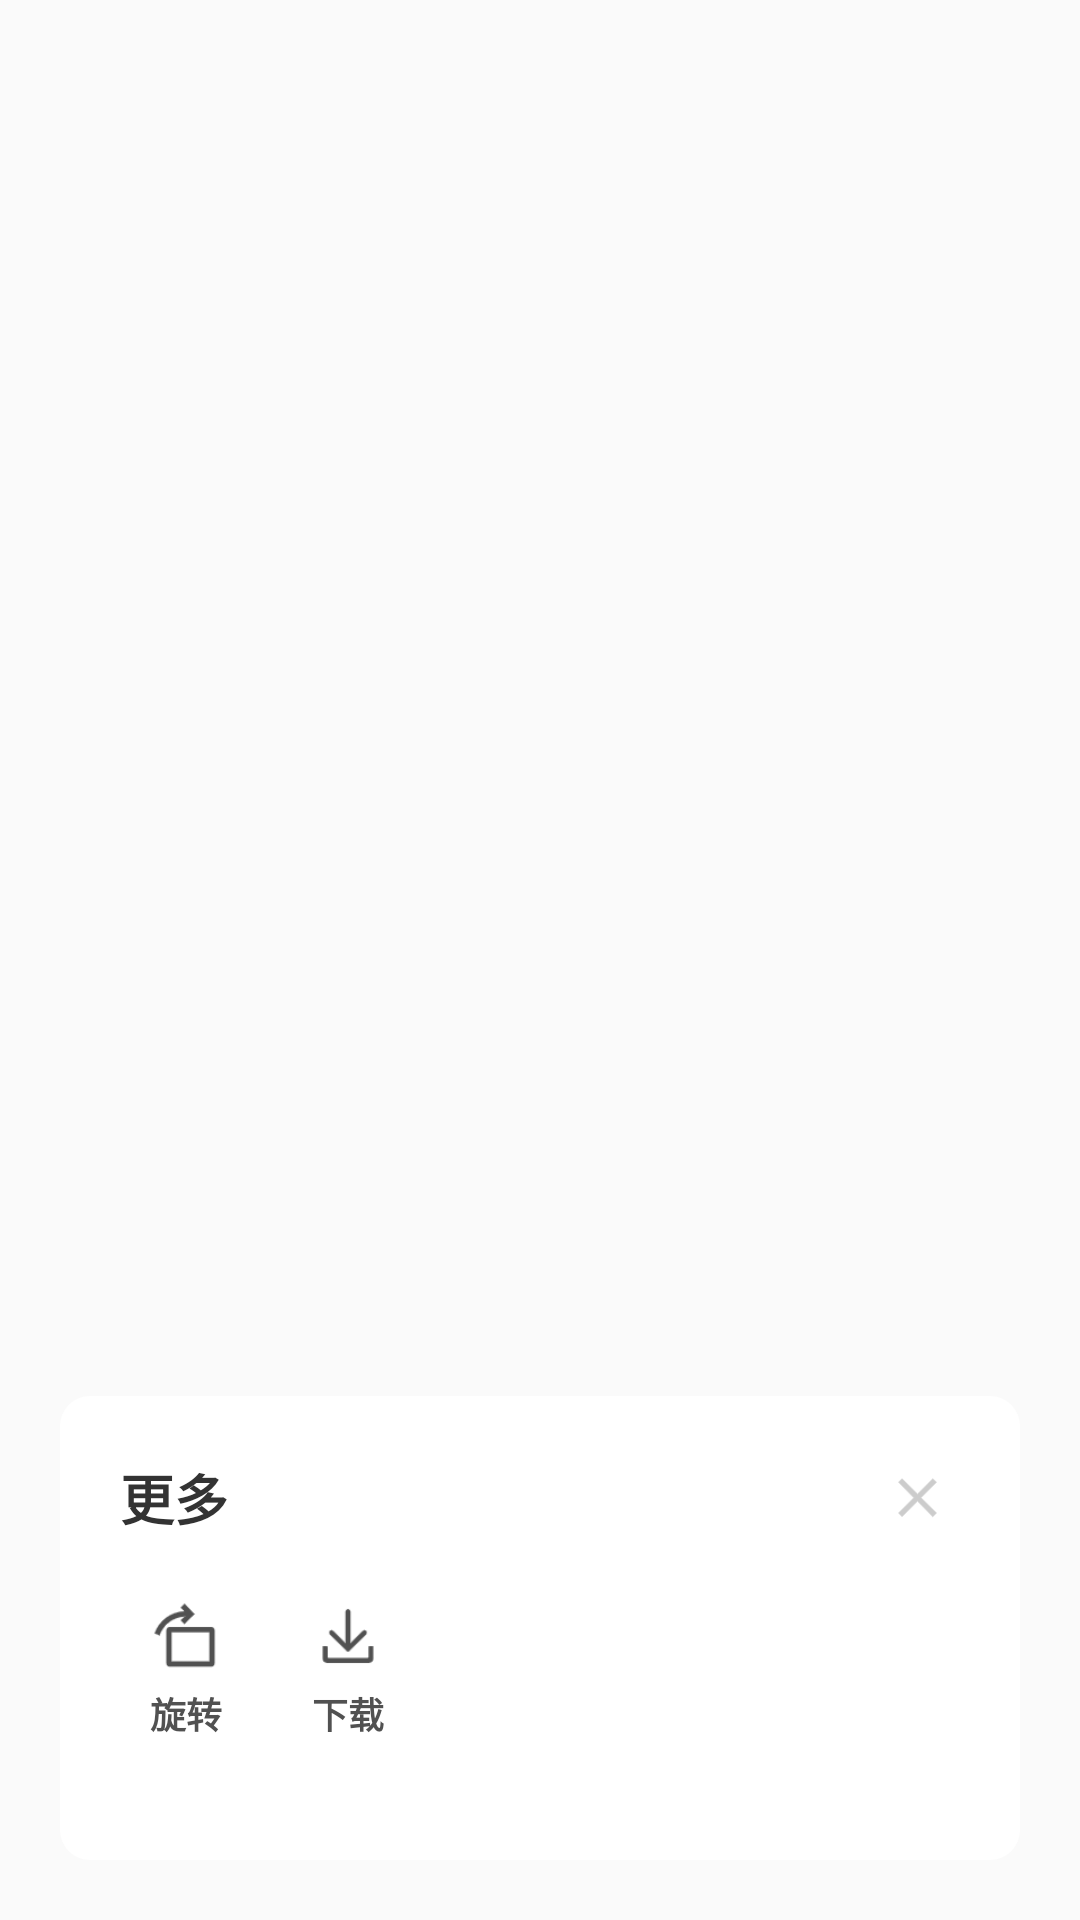

Where to tap for icons on this 1080px×1920px app screen, as (x=x, y=y):
close: (x=918, y=1498)
